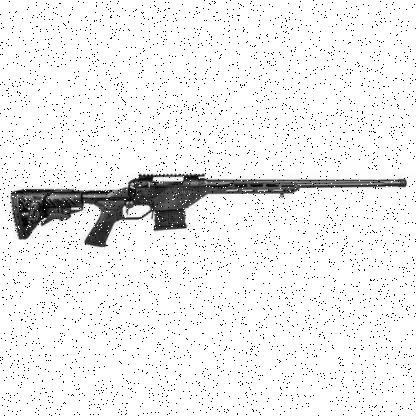rifle: (1, 155, 415, 261)
